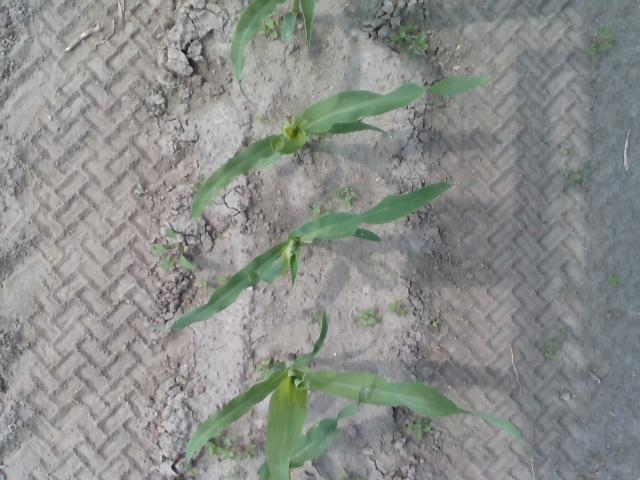Maize: (184, 310, 544, 466), (192, 74, 492, 222), (170, 183, 454, 331), (256, 378, 368, 480), (232, 0, 316, 108)
Weeds: (152, 228, 192, 271), (406, 420, 432, 440), (352, 307, 379, 324), (411, 38, 430, 54), (260, 22, 278, 37), (240, 445, 256, 461), (390, 302, 408, 316), (338, 186, 356, 200), (396, 30, 412, 44), (219, 446, 234, 459), (196, 281, 210, 292), (574, 174, 590, 183), (307, 204, 321, 213), (598, 31, 610, 41), (560, 142, 570, 154), (258, 360, 269, 370), (586, 44, 596, 54), (600, 41, 610, 50), (607, 276, 618, 283), (545, 352, 556, 359), (206, 444, 212, 452)
